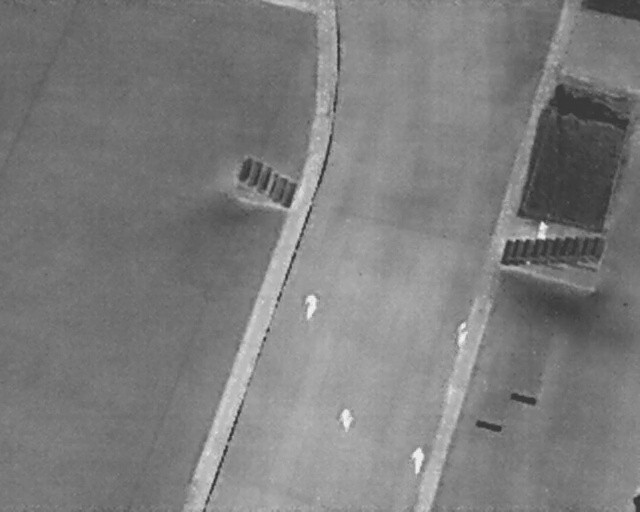Person: (408, 443, 427, 476), (301, 289, 319, 320), (338, 404, 356, 434), (454, 318, 470, 351), (537, 218, 550, 241)
